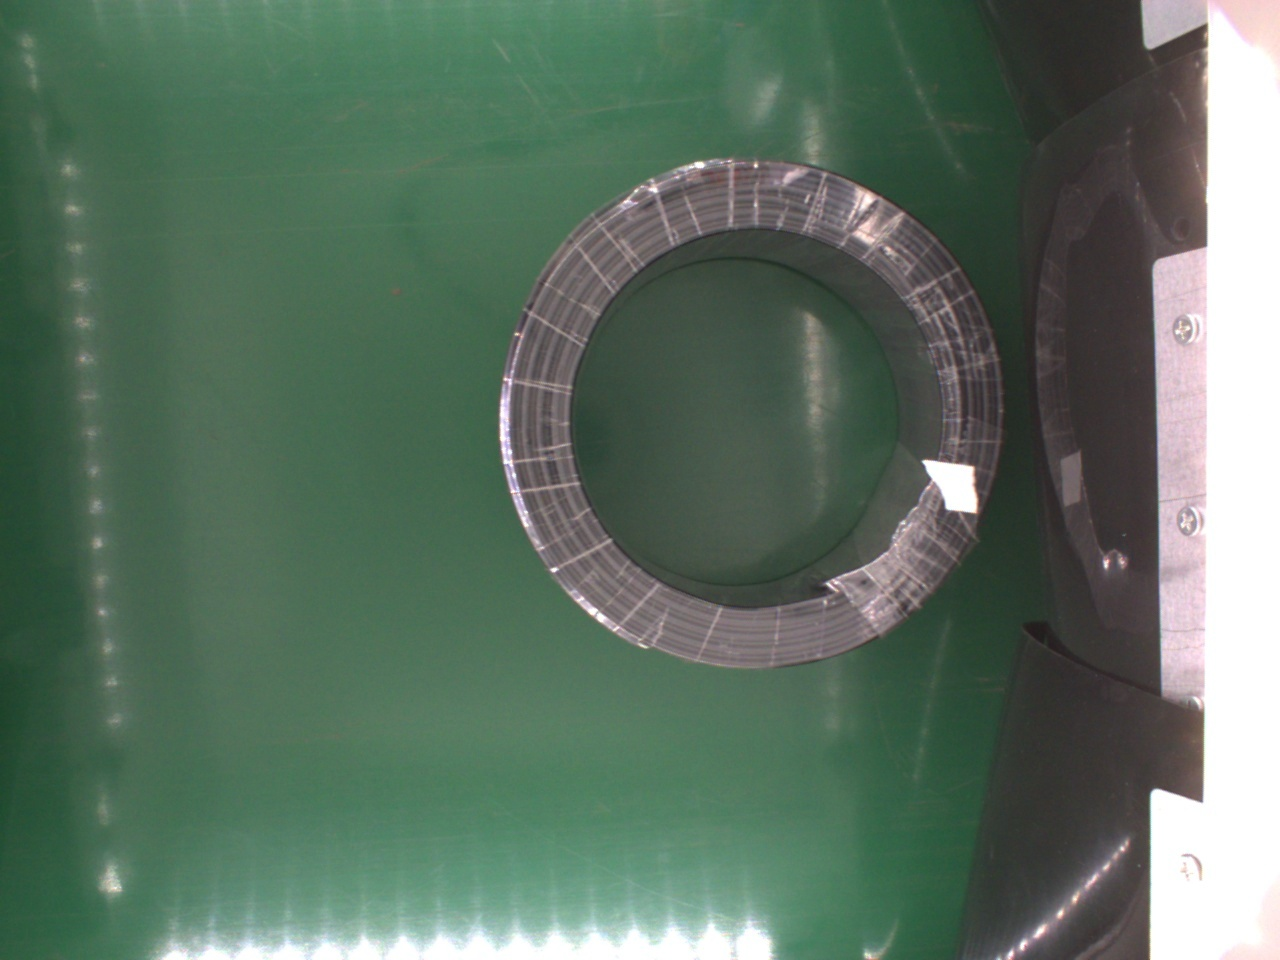black: (489, 157, 1006, 672)
